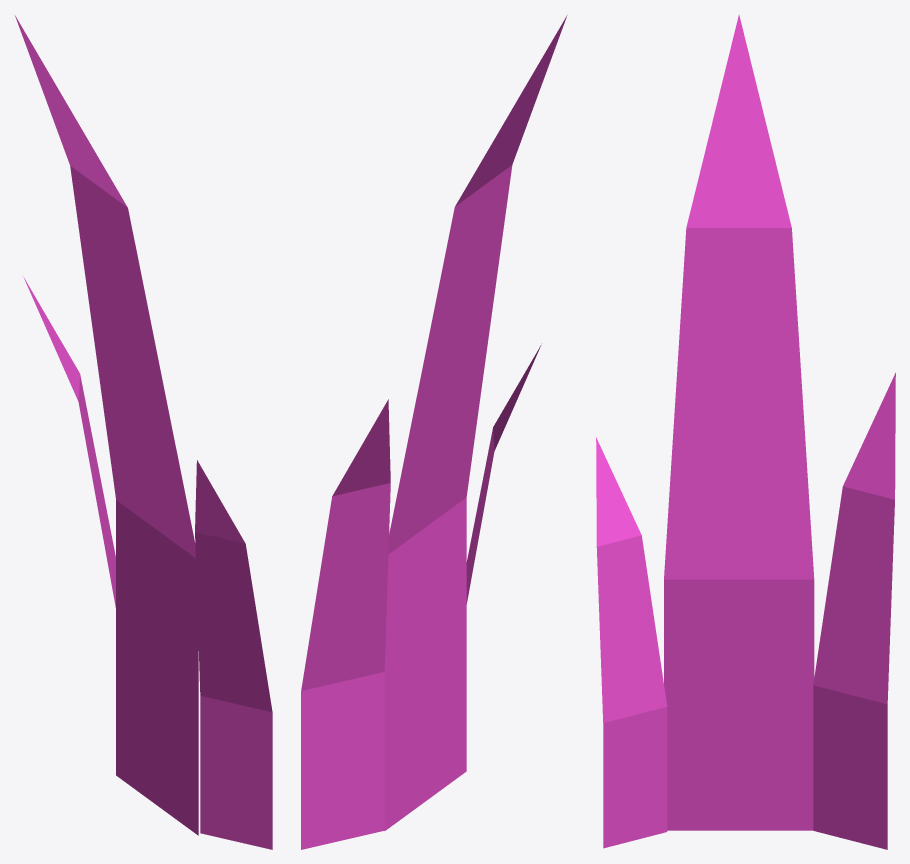
The model's file is Grass_C_005.fbx.
The picture shows the model from 3 angles, left to right: view 1: azimuth 30°, elevation 25°; view 2: azimuth 150°, elevation 25°; view 3: azimuth 270°, elevation 25°; orthographic projection. The views are drawn at different scales.
Visible parts, largest first — view 1: Grass C.005; view 2: Grass C.005; view 3: Grass C.005.
Part boxes in pixels (bbox=[...]): Grass C.005: bbox=[15, 15, 272, 849]; Grass C.005: bbox=[301, 15, 567, 849]; Grass C.005: bbox=[596, 14, 895, 849].
Size of the model in its own units: 6.67 by 28.24 by 10.18.
